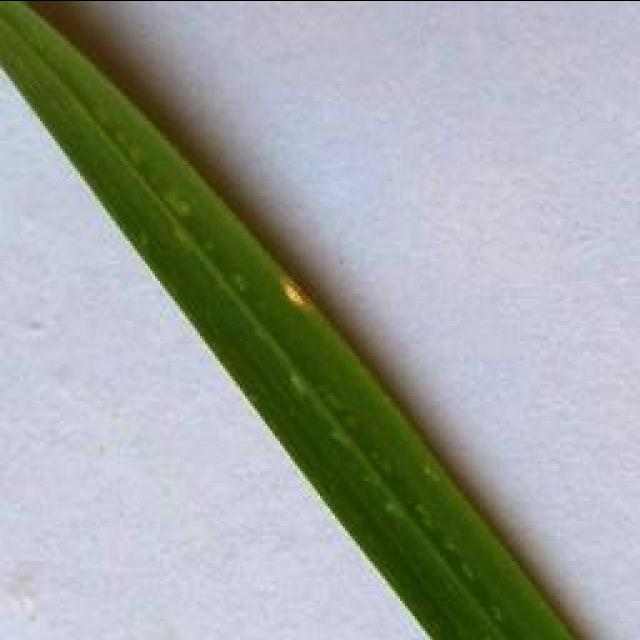Unhealthy: (280, 278, 313, 311)
